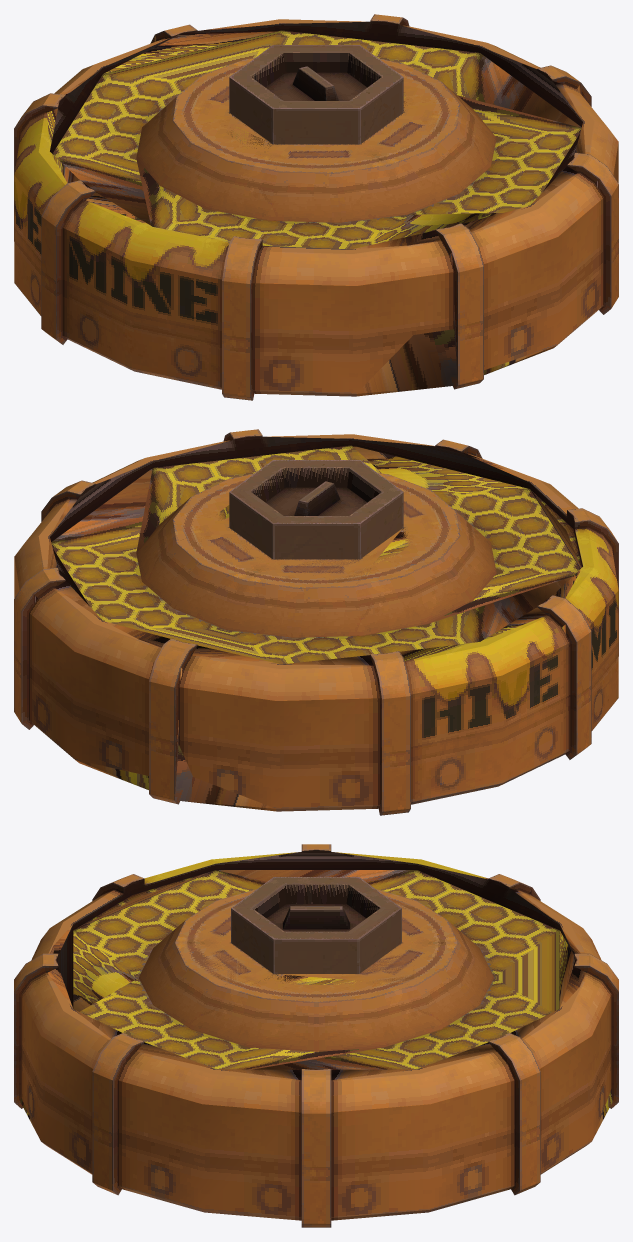
The model's file is item_landmine_bee.glb.
3 renders of one model, top to bottom at view 1: azimuth 30°, elevation 25°; view 2: azimuth 150°, elevation 25°; view 3: azimuth 270°, elevation 25°, orthographic. The views are drawn at different scales.
Parts seen in each view (by area): view 1: hivemine, hiveminepug; view 2: hivemine, hiveminepug; view 3: hivemine, hiveminepug.
Part boxes in pixels (x1=…): hivemine: x1=14, y1=14, x2=618, y2=400; hiveminepug: x1=229, y1=45, x2=403, y2=144; hivemine: x1=14, y1=429, x2=618, y2=815; hiveminepug: x1=229, y1=460, x2=403, y2=559; hivemine: x1=14, y1=844, x2=618, y2=1227; hiveminepug: x1=231, y1=877, x2=401, y2=973.
Bounding box in the file's own units: 0.5073 × 0.1802 × 0.5073.
Materials: 1 (1 with a texture image).
